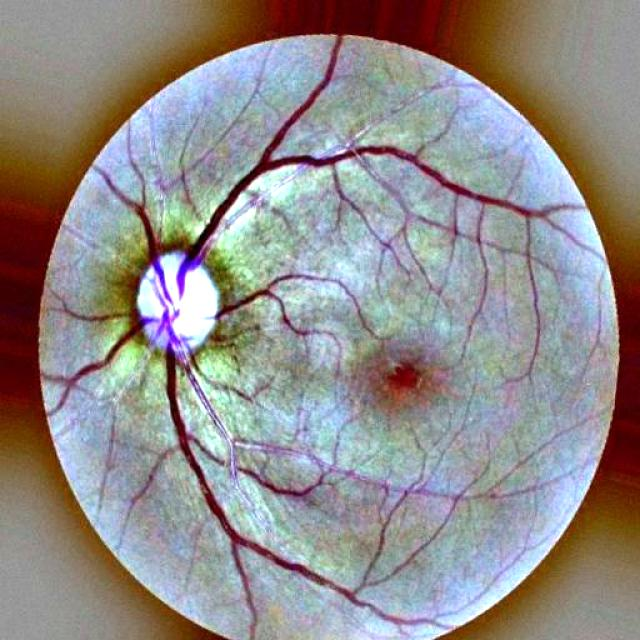Macula: (354, 350, 443, 416)
Nerves: (53, 99, 539, 639)
Optic Disk: (98, 219, 261, 389)
